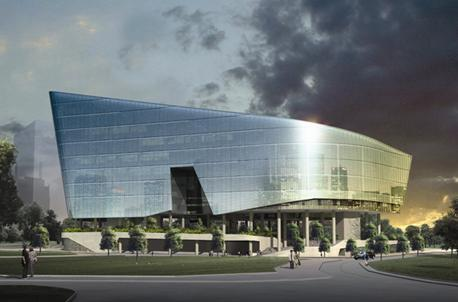affected: (43, 83, 418, 264)
